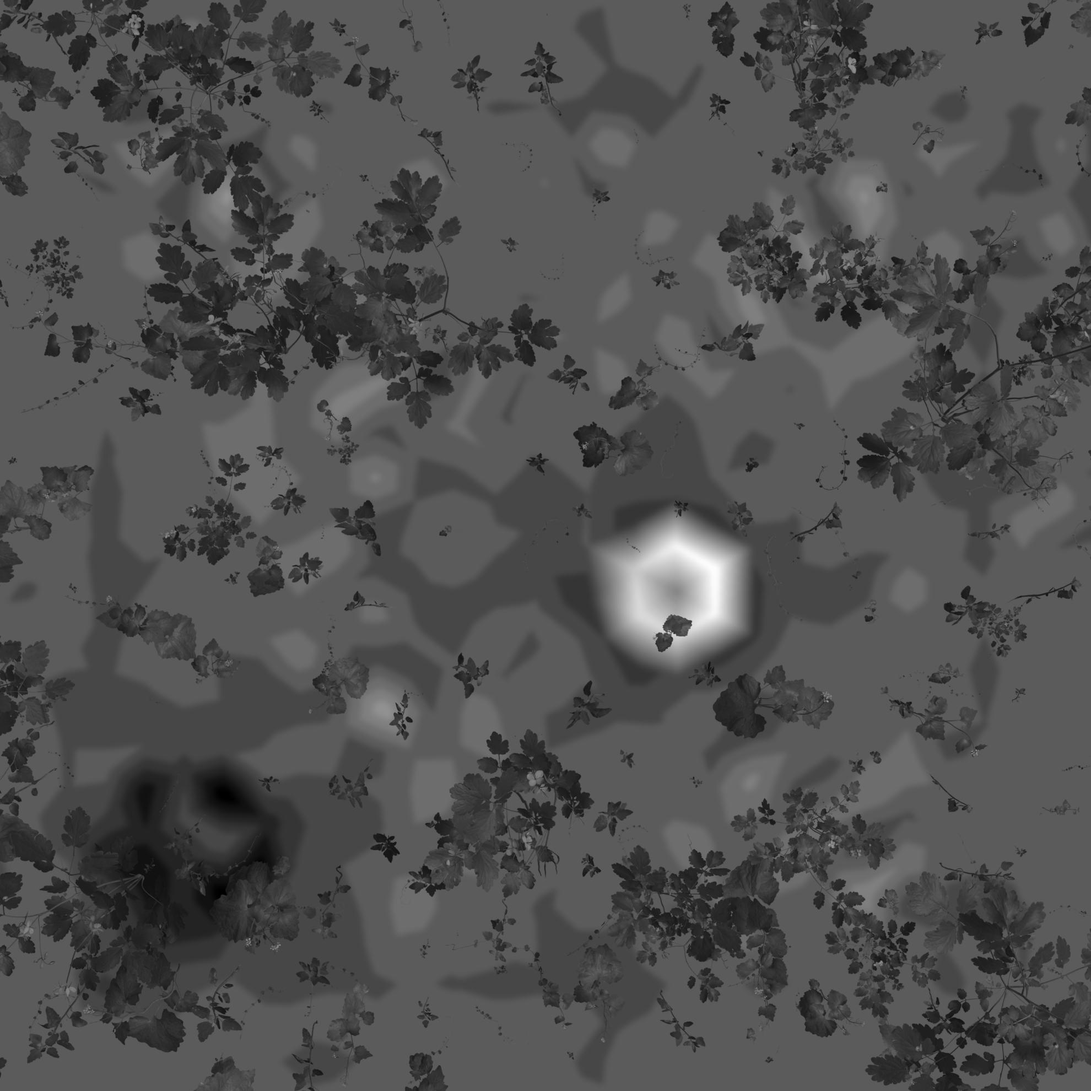landmine: (568, 486, 779, 699), (81, 755, 289, 962)
